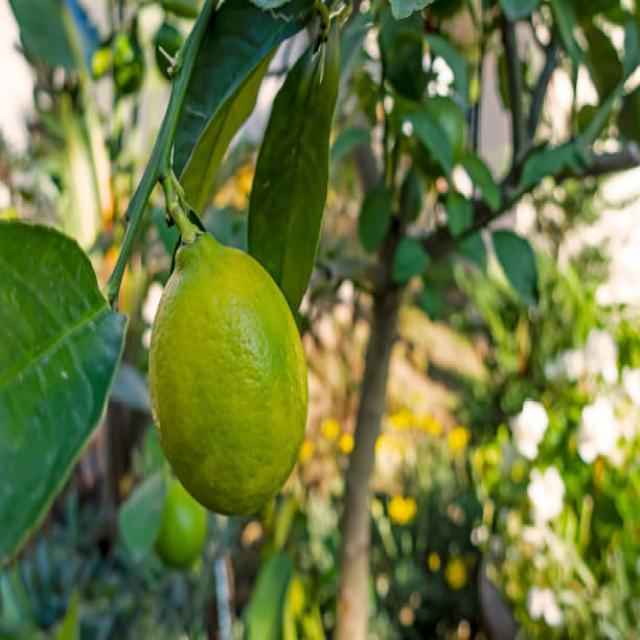Lemon: (149, 226, 310, 520)
